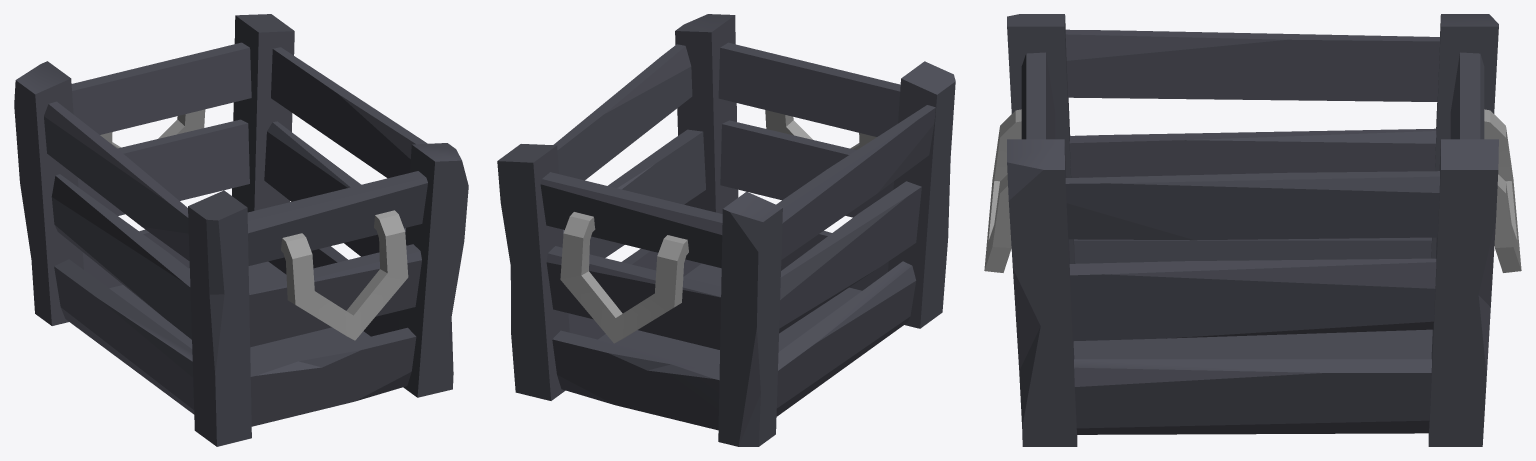
Rendered from Crate_4.fbx.
3 renders of one model, left to right at view 1: azimuth 30°, elevation 25°; view 2: azimuth 150°, elevation 25°; view 3: azimuth 270°, elevation 25°, orthographic. The views are drawn at different scales.
Visible parts, largest first — view 1: Crate_4; view 2: Crate_4; view 3: Crate_4.
Part boxes in pixels (x1,y1,x2,y2): Crate_4: [14, 14, 468, 446]; Crate_4: [497, 14, 955, 446]; Crate_4: [984, 14, 1521, 446].
Bounding box in the file's own units: 14.96 × 13.12 × 21.8.
